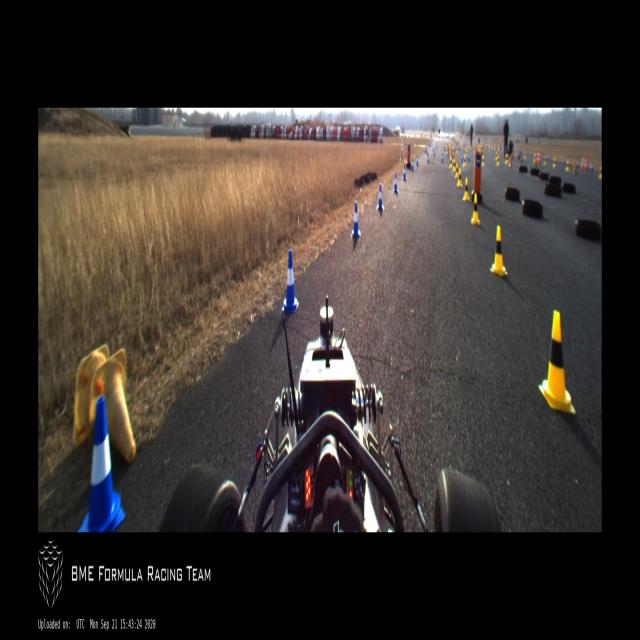blue_cone: (78, 397, 126, 531), (281, 250, 299, 312), (351, 202, 361, 238), (376, 184, 384, 210), (393, 173, 399, 193), (402, 164, 407, 182), (411, 158, 414, 171), (416, 154, 418, 166), (428, 154, 430, 163), (442, 154, 444, 163)
yellow_cone: (538, 311, 576, 414), (491, 226, 507, 274), (472, 192, 479, 226), (463, 178, 470, 200), (457, 168, 461, 188), (496, 154, 500, 166), (453, 158, 456, 172), (463, 155, 466, 167), (505, 153, 508, 164), (456, 164, 458, 178), (450, 156, 452, 169), (482, 154, 484, 166), (496, 152, 498, 162)
